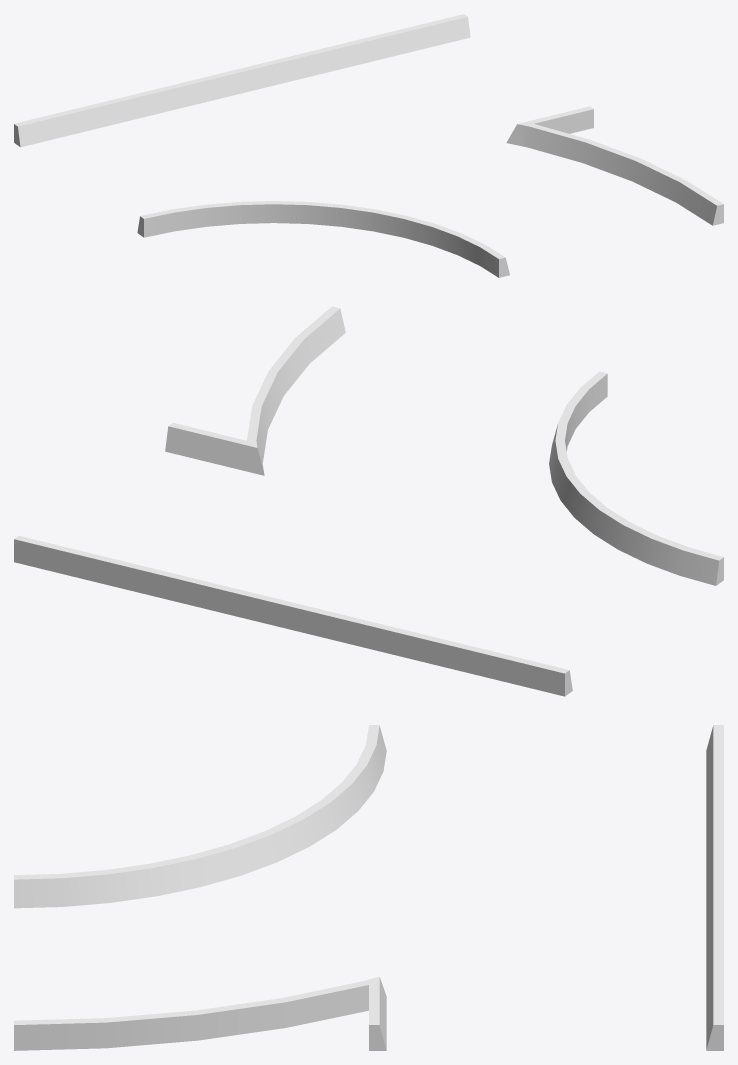
Rendered from road-curve-intersection-barrier.gltf.
3 renders of one model, top to bottom at view 1: azimuth 30°, elevation 25°; view 2: azimuth 150°, elevation 25°; view 3: azimuth 270°, elevation 25°, orthographic. The views are drawn at different scales.
Visible parts, largest first — view 1: road-curve-intersection-barrier; view 2: road-curve-intersection-barrier; view 3: road-curve-intersection-barrier.
Boxes of the visible parts, x1,y1,x2,y2 form: road-curve-intersection-barrier: (14, 14, 723, 277); road-curve-intersection-barrier: (14, 306, 723, 696); road-curve-intersection-barrier: (14, 725, 723, 1050).
Bounding box in the file's own units: 2 × 0.08 × 2.
Materials: 1 (1 with a texture image).
